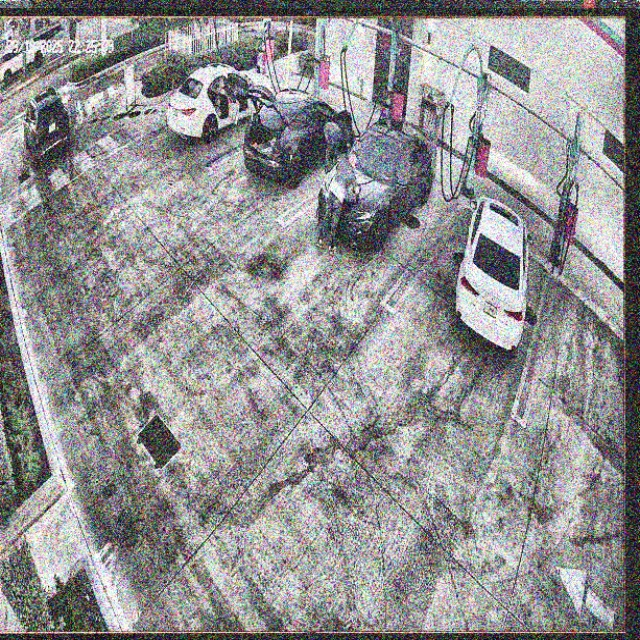Car: (318, 123, 437, 253), (247, 89, 351, 195), (463, 182, 526, 356), (164, 63, 273, 147)
